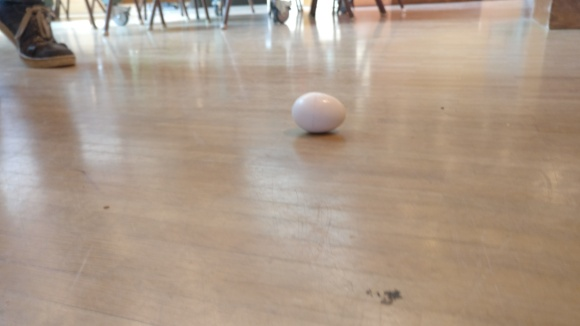egg: (291, 90, 348, 134)
